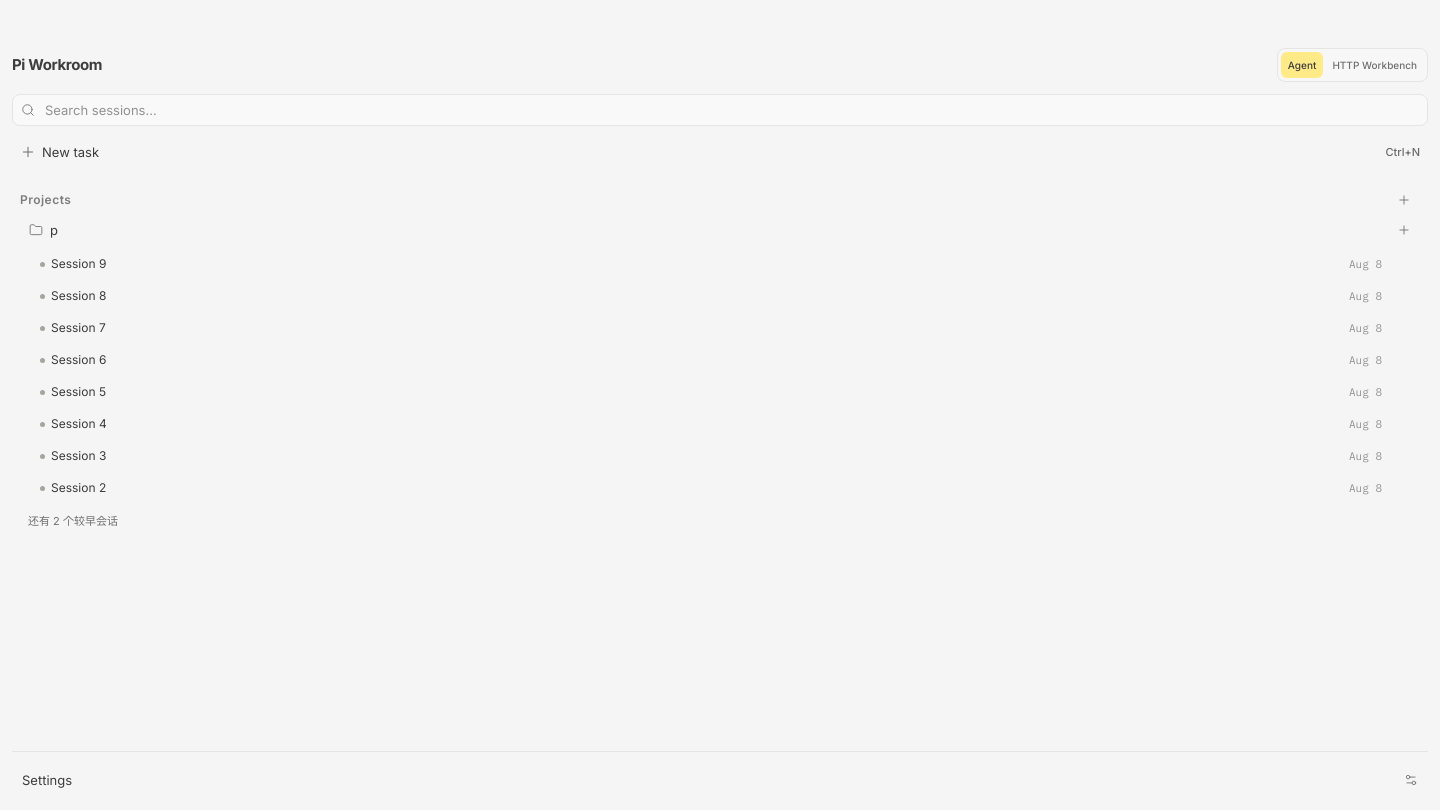
Scenario: SessionSidebar › collapses sessions after the eight most recently updated
The width and height of the screenshot is (1440, 810).
expect the text "Session 9" is shown: met, box x1=51 y1=256 x2=106 y2=271
expect the text "Session 1" is not shown: met
Step 1. Click the button "还有 2 个较早会话" → (73, 521), box x1=20 y1=506 x2=1418 y2=534
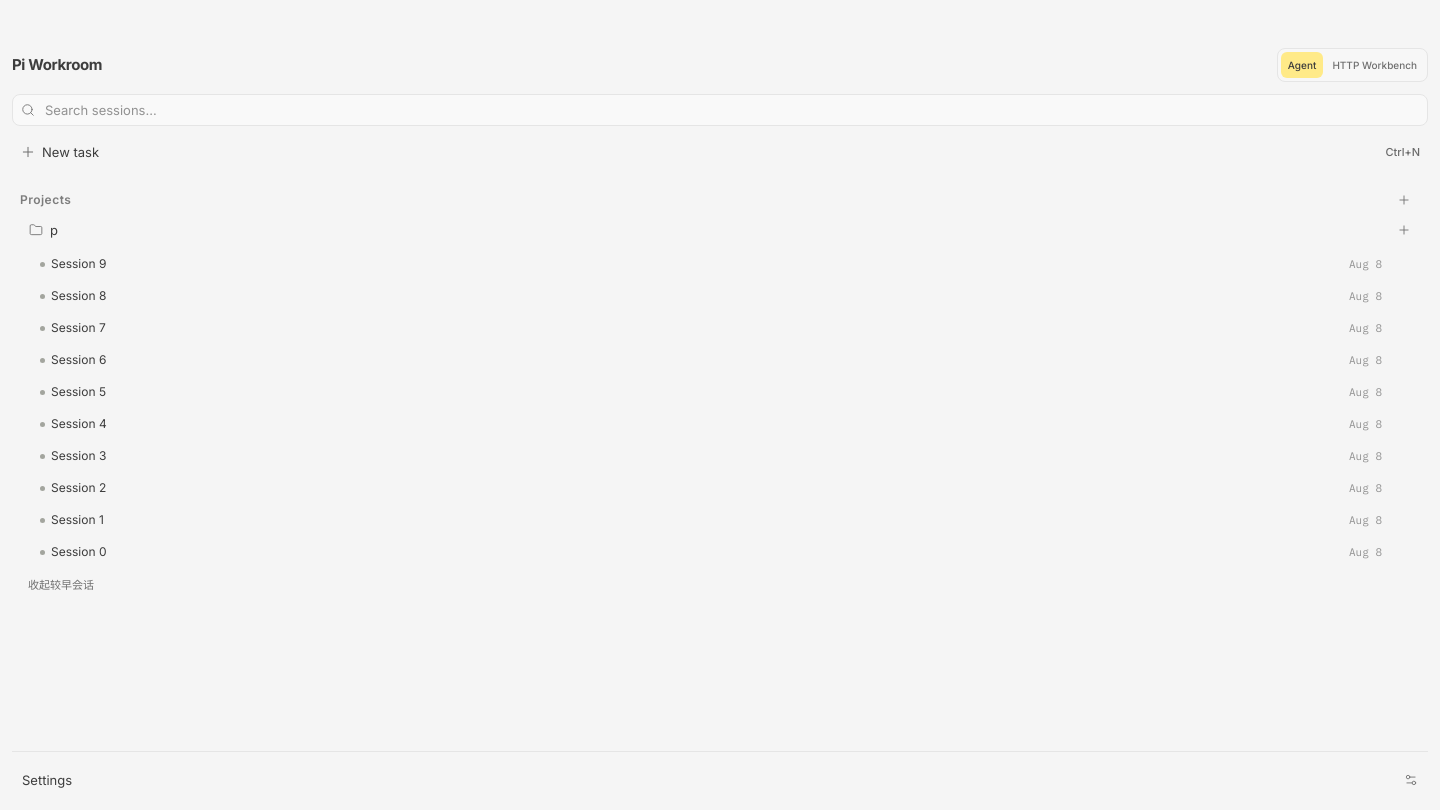
expect the text "Session 1" is shown: met, box x1=51 y1=512 x2=104 y2=527
expect the text "Session 0" is shown: met, box x1=51 y1=544 x2=106 y2=559
expect the button "收起较早会话" is shown: met
Step 2. Click the button "收起较早会话" → (61, 585), box x1=20 y1=570 x2=1418 y2=598
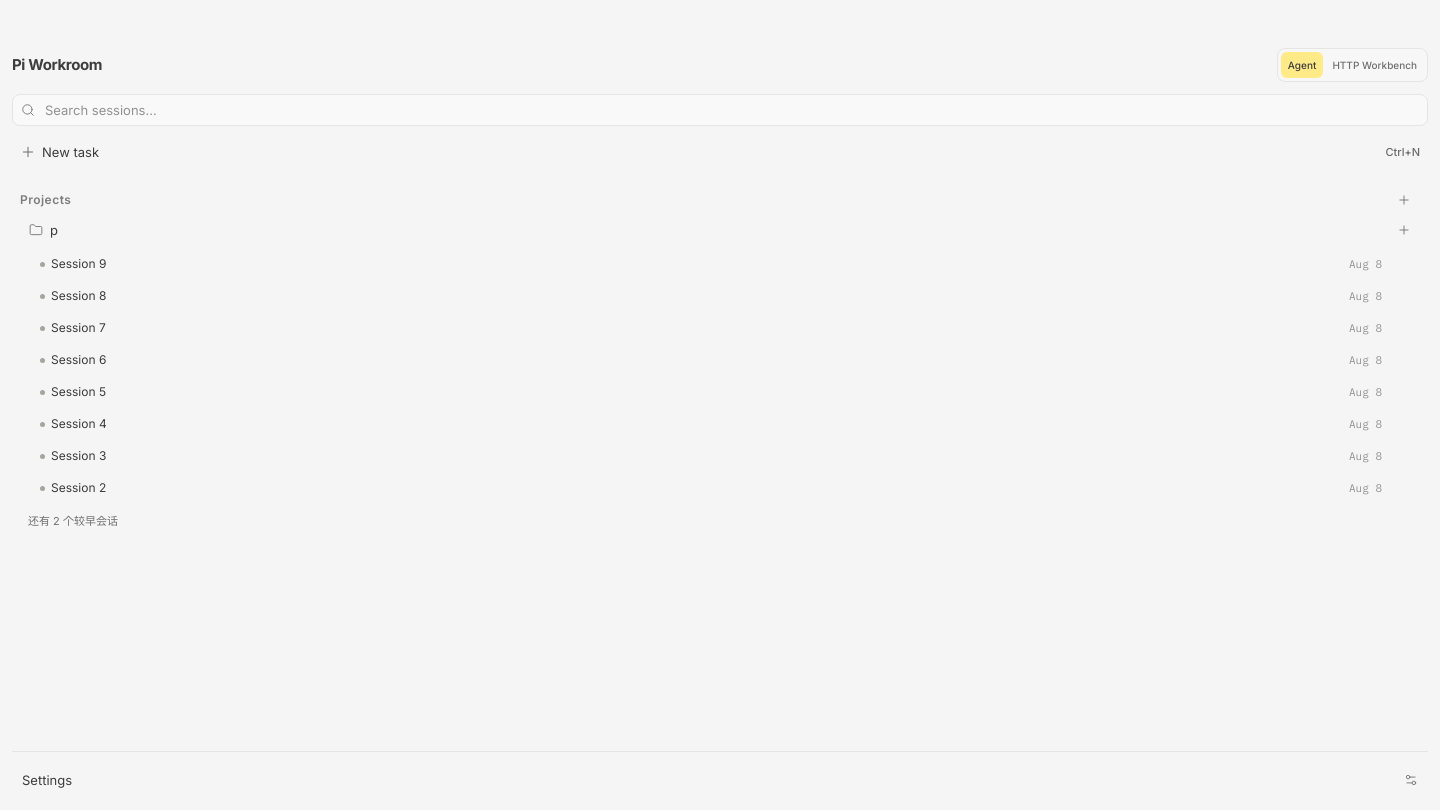
expect the button "Session 1" is gone: met
